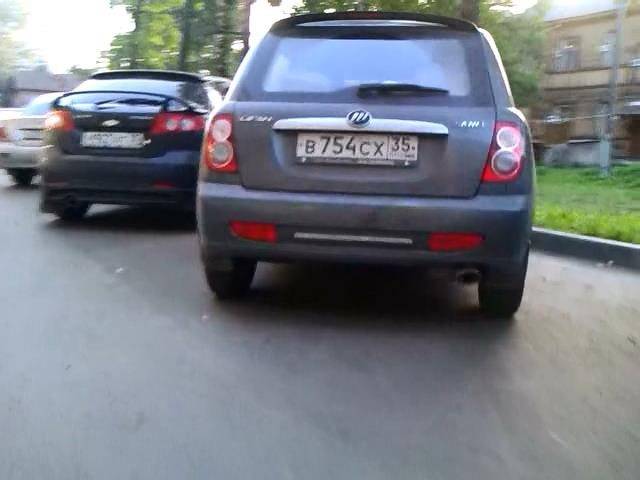car license plate: (294, 129, 421, 170), (79, 131, 145, 151), (21, 128, 47, 141)
